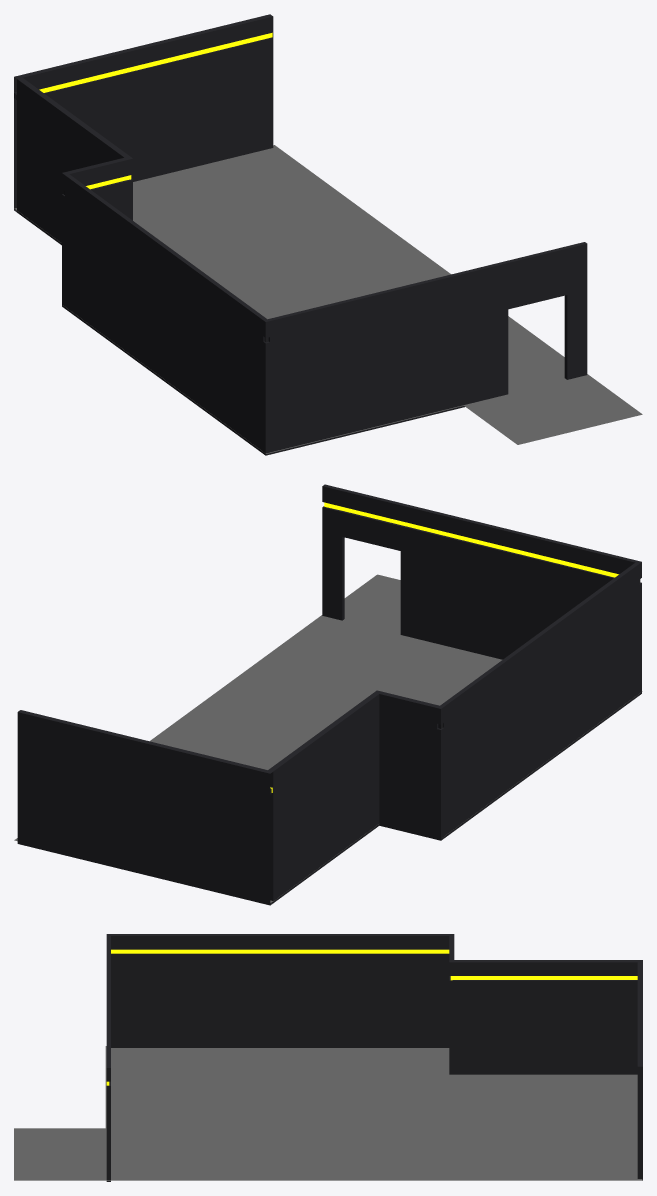
The model's file is nurseoffice.fbx.
3 views of the same model, one above another, from view 1: azimuth 30°, elevation 25°; view 2: azimuth 150°, elevation 25°; view 3: azimuth 270°, elevation 25° (orthographic). The views are drawn at different scales.
Parts seen in each view (by area): view 1: Plane; view 2: Plane; view 3: Plane.
Boxes of the visible parts, x1=… form: Plane: x1=14, y1=14, x2=642, y2=455; Plane: x1=14, y1=484, x2=642, y2=905; Plane: x1=14, y1=934, x2=642, y2=1181.
Bounding box in the file's own units: 759 × 300 × 1501.
